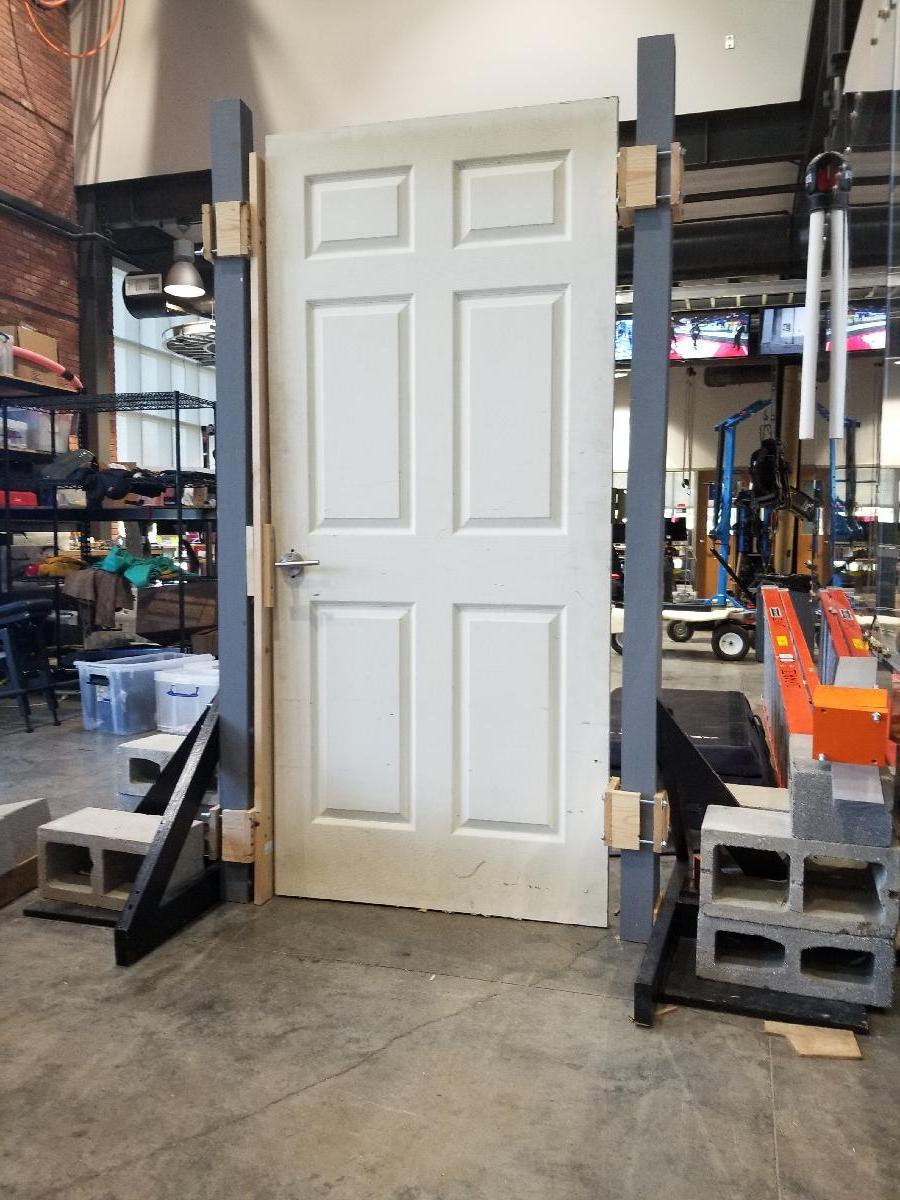door: (271, 98, 609, 903)
handle: (272, 546, 322, 580)
